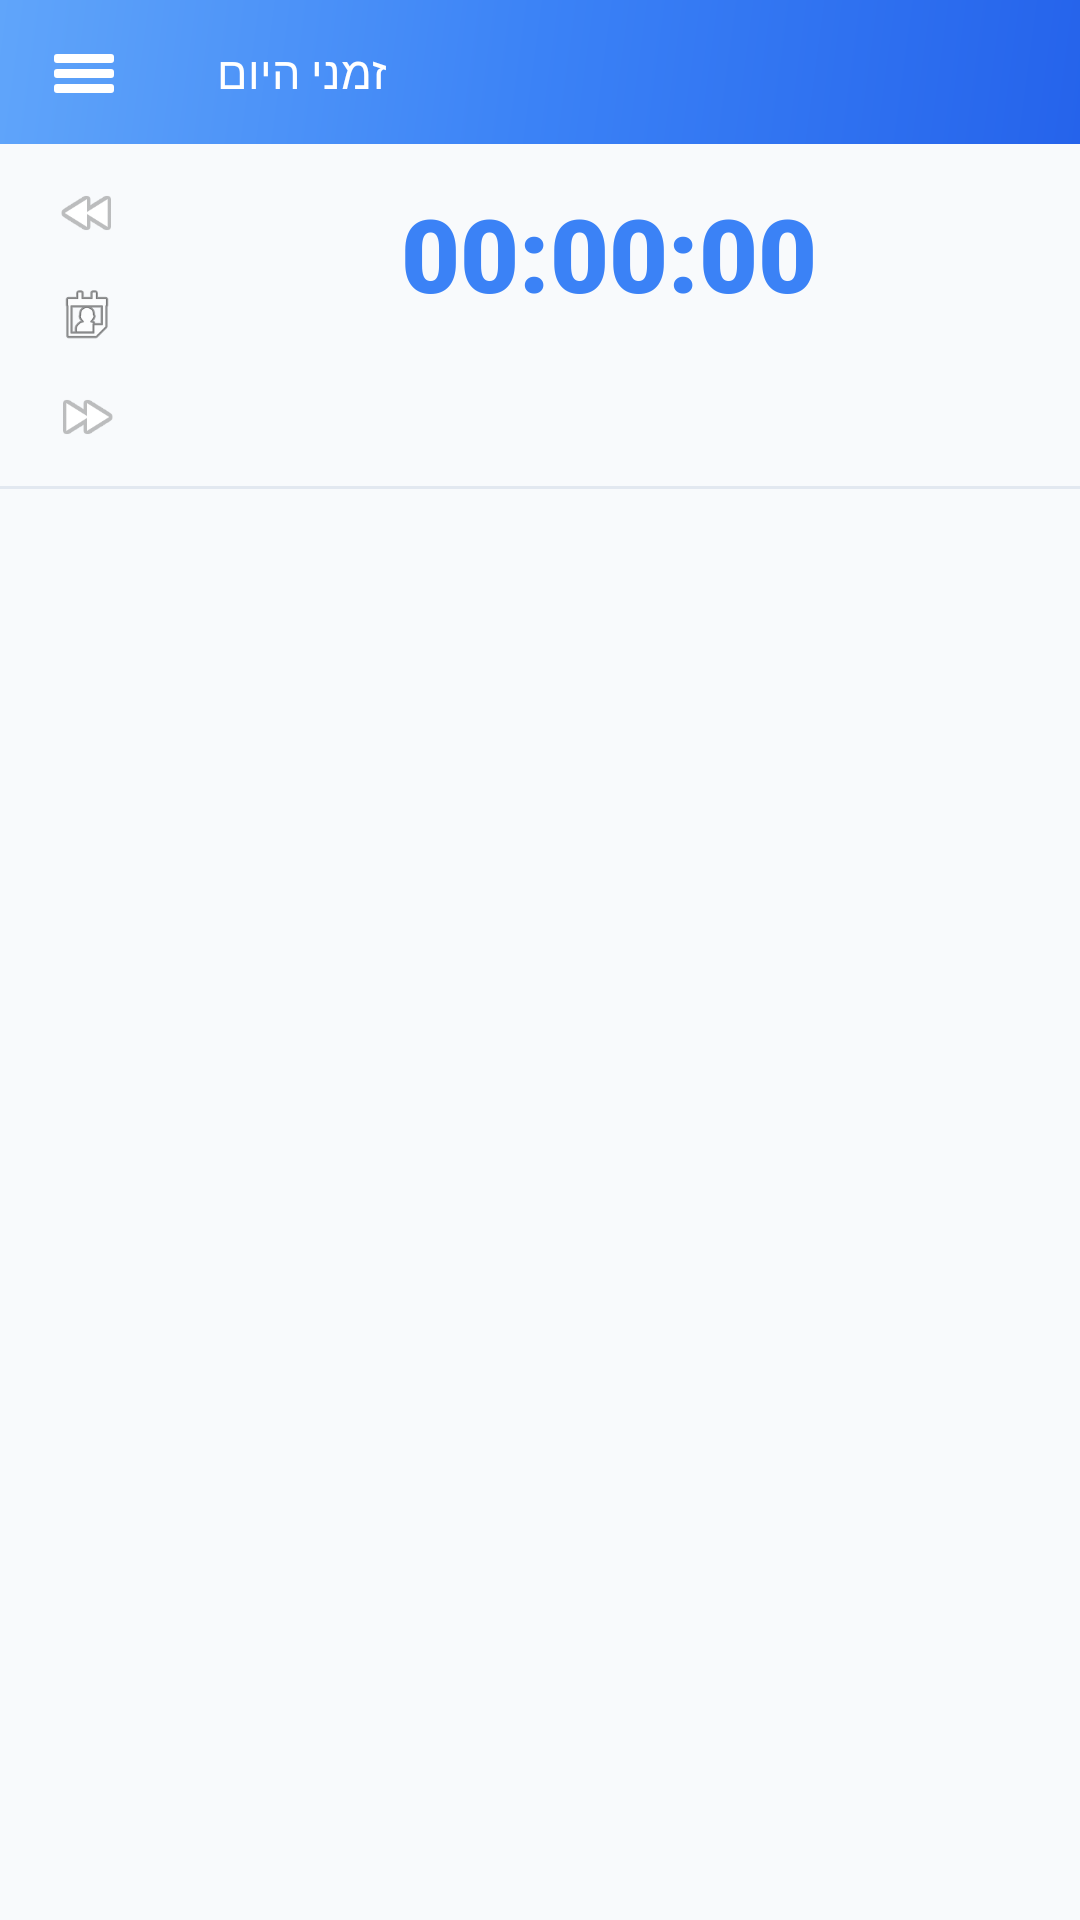

Where to tap for icons on this 1080×1920 app screen, as (x=x, y=y):
בחר תאריך: (x=87, y=314)
יום הבא: (x=88, y=417)
יום קודם: (x=86, y=213)
